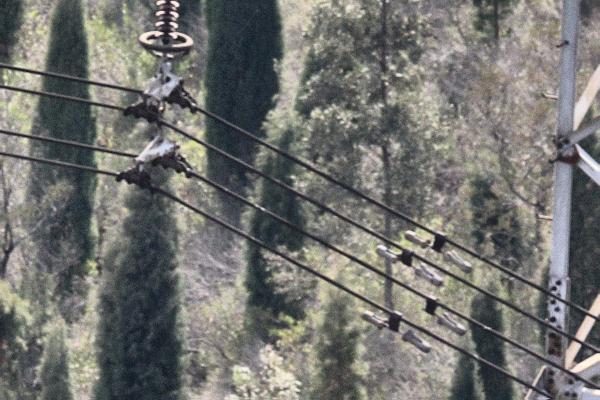damper: (358, 304, 434, 355), (403, 225, 475, 275), (372, 242, 444, 288)
damper_defect: (419, 293, 468, 336)
